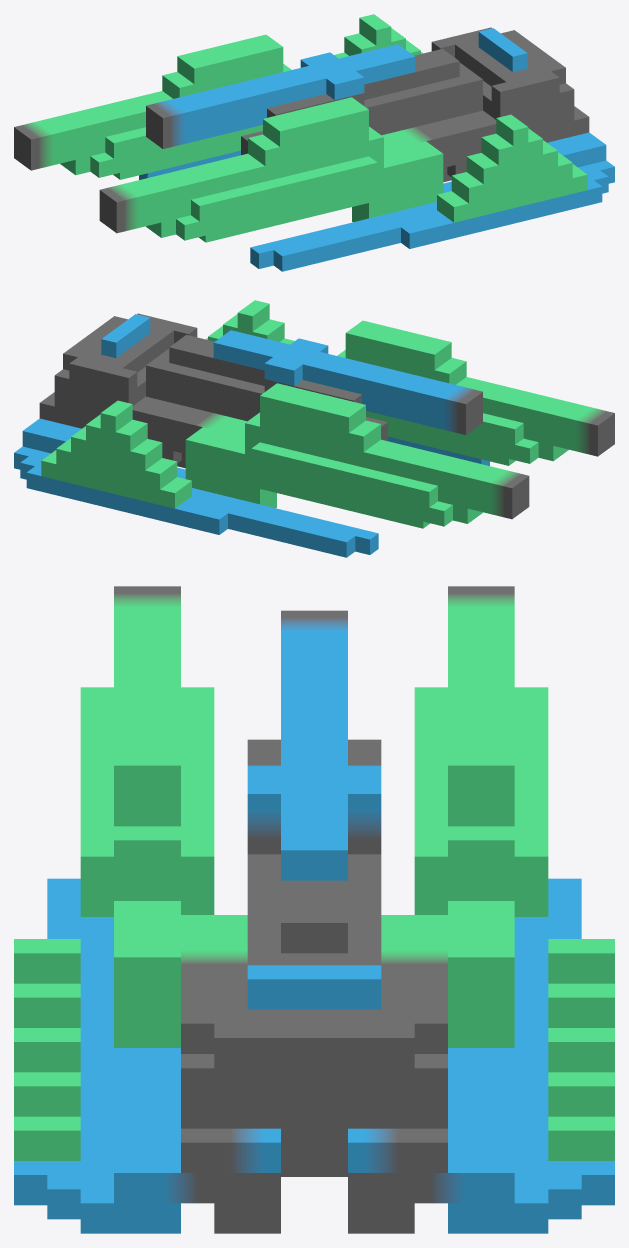
The model's file is Player_10.fbx.
3 views of the same model, one above another, from view 1: azimuth 30°, elevation 25°; view 2: azimuth 150°, elevation 25°; view 3: azimuth 270°, elevation 25° (orthographic). The views are drawn at different scales.
Parts seen in each view (by area): view 1: Player_10; view 2: Player_10; view 3: Player_10.
Part boxes in pixels (bbox=[...]): Player_10: bbox=[14, 14, 614, 271]; Player_10: bbox=[14, 300, 614, 557]; Player_10: bbox=[14, 586, 614, 1233].
Size of the model in its own units: 33 by 8 by 18.
1 material, 1 textured.
